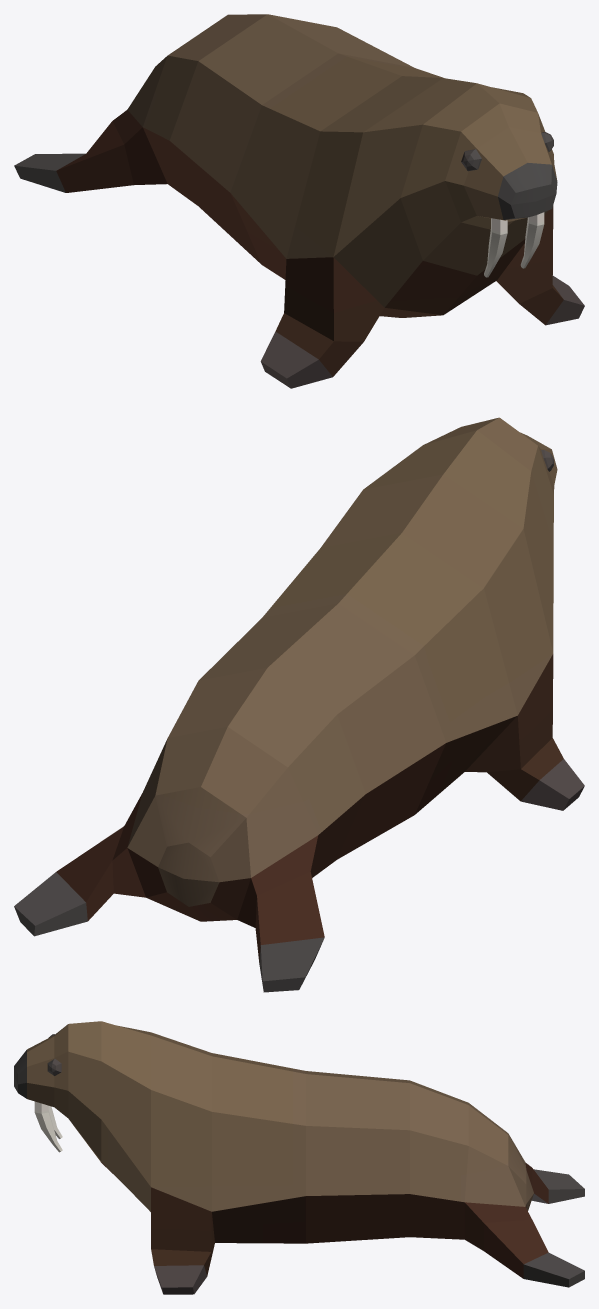
Rendered from prop_pz_walrus.glb.
The picture shows the model from 3 angles, top to bottom: view 1: azimuth 30°, elevation 25°; view 2: azimuth 150°, elevation 25°; view 3: azimuth 270°, elevation 25°; orthographic projection. The views are drawn at different scales.
Visible parts, largest first — view 1: Geo_Walrus; view 2: Geo_Walrus; view 3: Geo_Walrus.
Boxes of the visible parts, x1,y1,x2,y2 form: Geo_Walrus: [14, 14, 584, 388]; Geo_Walrus: [14, 417, 584, 992]; Geo_Walrus: [14, 1021, 584, 1294].
Bounding box in the file's own units: 132 × 123 × 288.
1 material, 1 textured.
